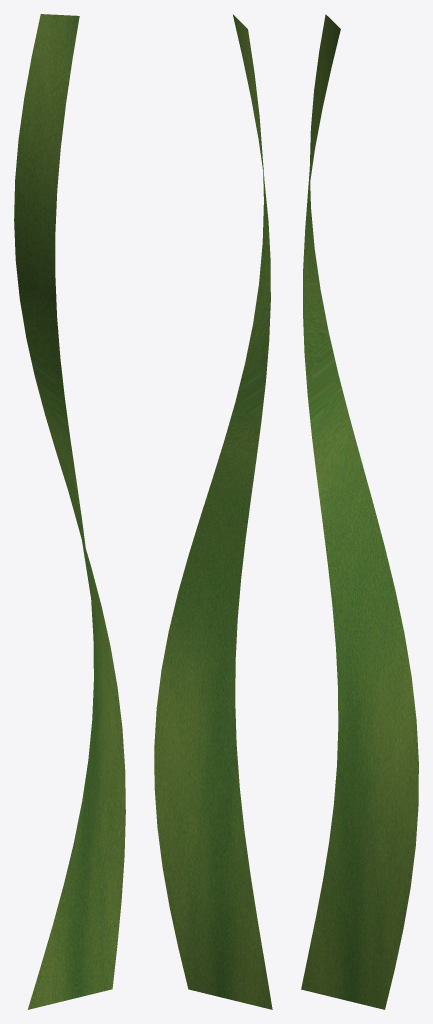
Rendered from alga.fbx.
3 renders of one model, left to right at view 1: azimuth 30°, elevation 25°; view 2: azimuth 150°, elevation 25°; view 3: azimuth 330°, elevation 25°, orthographic.
Visible parts, largest first — view 1: alga; view 2: alga; view 3: alga.
Boxes of the visible parts, x1,y1,x2,y2 form: alga: (14,14,125,1009); alga: (154,14,272,1009); alga: (301,14,418,1009).
Size of the model in its own units: 0.4669 by 4 by 0.2391.
Materials: 1 (1 with a texture image).
